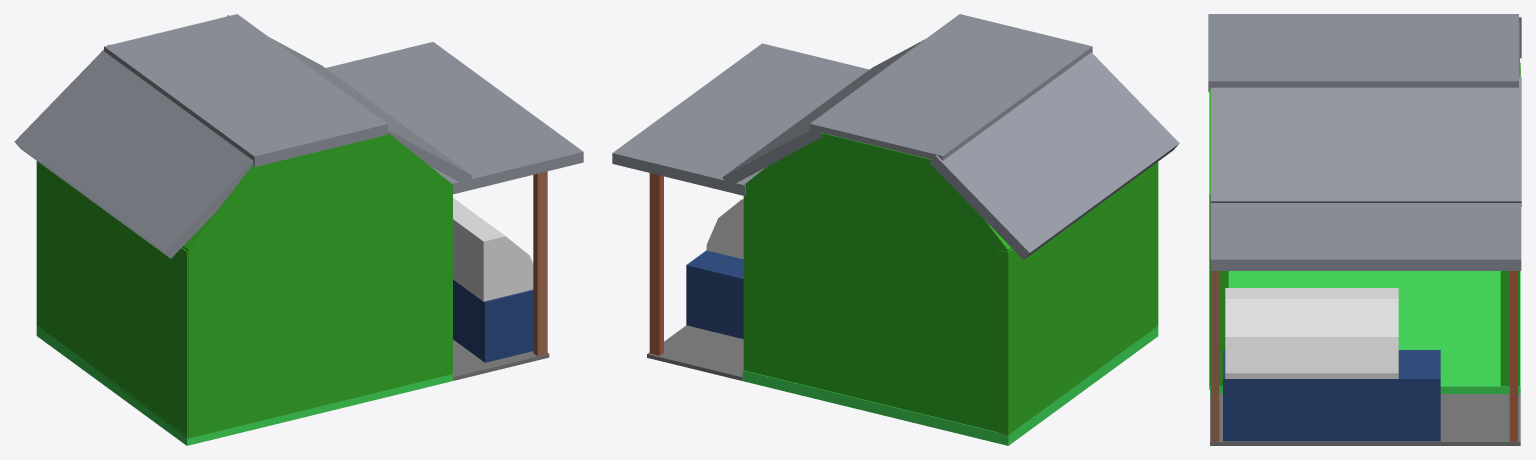
Rendered from Kedai_Om_Berd.fbx.
3 renders of one model, left to right at view 1: azimuth 30°, elevation 25°; view 2: azimuth 150°, elevation 25°; view 3: azimuth 270°, elevation 25°, orthographic. The views are drawn at different scales.
Visible parts, largest first — view 1: Cube.011; view 2: Cube.011; view 3: Cube.011.
Part boxes in pixels (x1,y1,x2,y2): Cube.011: (14,14,583,445); Cube.011: (612,14,1179,445); Cube.011: (1208,14,1521,445).
Bounding box in the file's own units: 1454 × 909 × 912.
